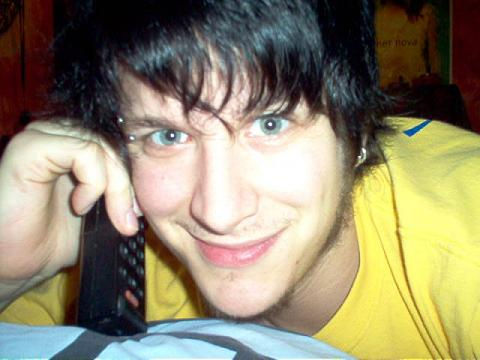person: (1, 1, 480, 360)
